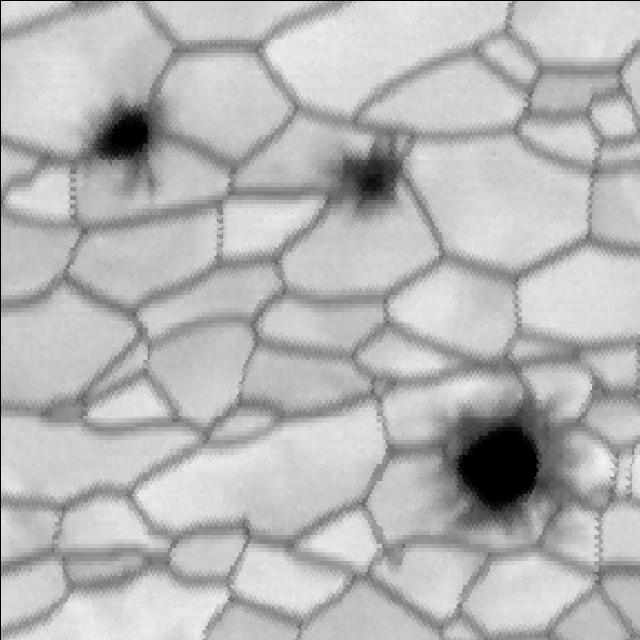good_void: (410, 388, 590, 547), (324, 124, 426, 245), (73, 88, 175, 194)
